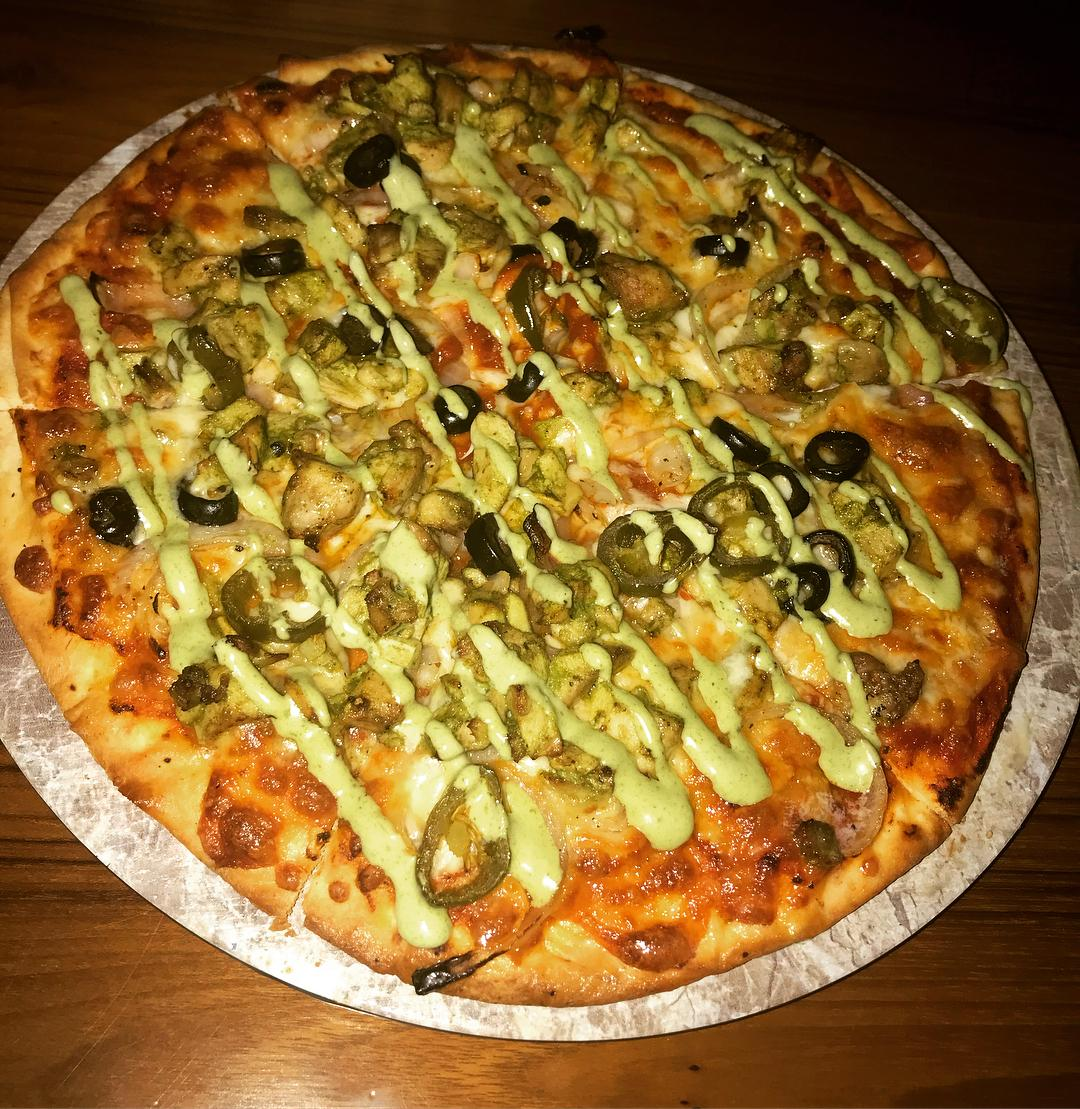Olives: (781, 528, 863, 625), (168, 453, 253, 530), (465, 508, 539, 583), (803, 418, 877, 488), (341, 128, 409, 196), (336, 298, 401, 366), (716, 406, 767, 472), (417, 384, 493, 428), (90, 478, 131, 544), (245, 232, 297, 280), (696, 231, 753, 272), (536, 218, 593, 256), (505, 362, 543, 400)
Peppers: (406, 766, 519, 911), (225, 548, 335, 637), (603, 238, 685, 340), (593, 516, 703, 591), (269, 456, 368, 528)
Pizza: (13, 48, 1045, 1011)
